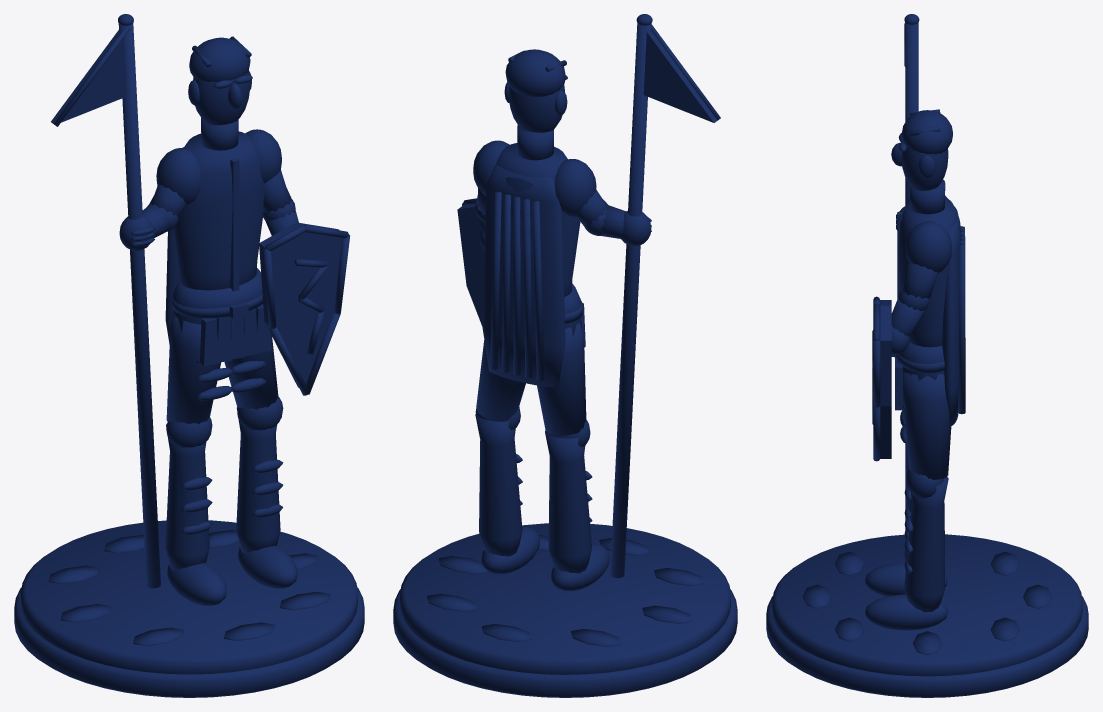
File: knight-blue-level-1-bare.fbx
3 views of the same model, side by side, from view 1: azimuth 30°, elevation 25°; view 2: azimuth 150°, elevation 25°; view 3: azimuth 270°, elevation 25° (orthographic). The views are drawn at different scales.
Visible parts, largest first — view 1: Knight_Level_1_Bare_Sculpt; view 2: Knight_Level_1_Bare_Sculpt; view 3: Knight_Level_1_Bare_Sculpt.
Boxes of the visible parts, x1,y1,x2,y2 form: Knight_Level_1_Bare_Sculpt: (14, 14, 364, 697); Knight_Level_1_Bare_Sculpt: (393, 14, 737, 697); Knight_Level_1_Bare_Sculpt: (766, 14, 1088, 697).
Bounding box in the file's own units: 0.012 × 0.024 × 0.012.
